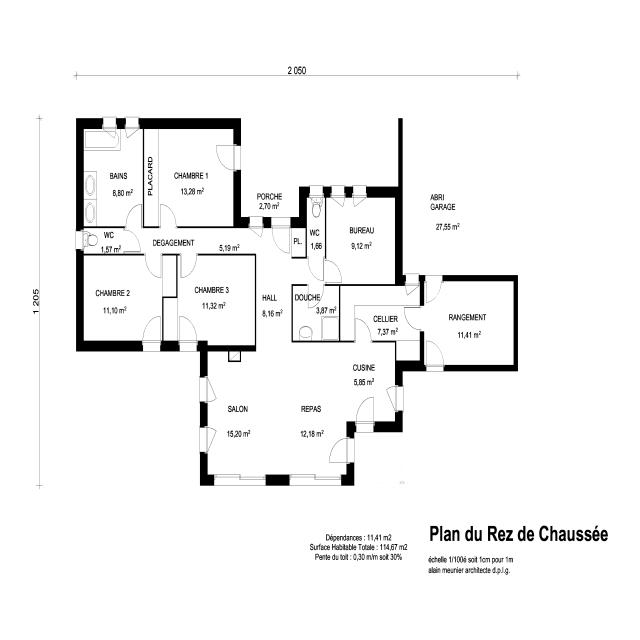door: (140, 311, 164, 348), (177, 312, 200, 348), (354, 394, 376, 430), (270, 221, 292, 256), (214, 142, 238, 173), (326, 436, 350, 467), (424, 337, 446, 370), (422, 274, 444, 306), (402, 304, 424, 333), (352, 315, 373, 344), (323, 256, 344, 284), (158, 200, 178, 229), (121, 228, 142, 254), (200, 375, 218, 405), (179, 252, 198, 280), (388, 383, 405, 413), (125, 201, 143, 228), (144, 253, 163, 278), (308, 255, 325, 282), (404, 275, 421, 302), (248, 216, 265, 242), (100, 117, 118, 140), (124, 116, 140, 141), (351, 188, 368, 210), (330, 189, 346, 212)
window: (287, 472, 343, 486), (216, 472, 268, 486), (211, 472, 243, 485), (289, 471, 318, 483), (200, 425, 212, 452), (308, 183, 324, 198), (75, 228, 84, 253)
zone: (204, 343, 368, 477), (145, 127, 235, 226), (421, 279, 516, 368), (81, 254, 171, 345), (174, 254, 255, 346), (325, 194, 397, 284), (83, 128, 144, 227), (339, 282, 419, 344), (294, 284, 340, 341), (81, 227, 124, 255), (306, 193, 325, 256)
